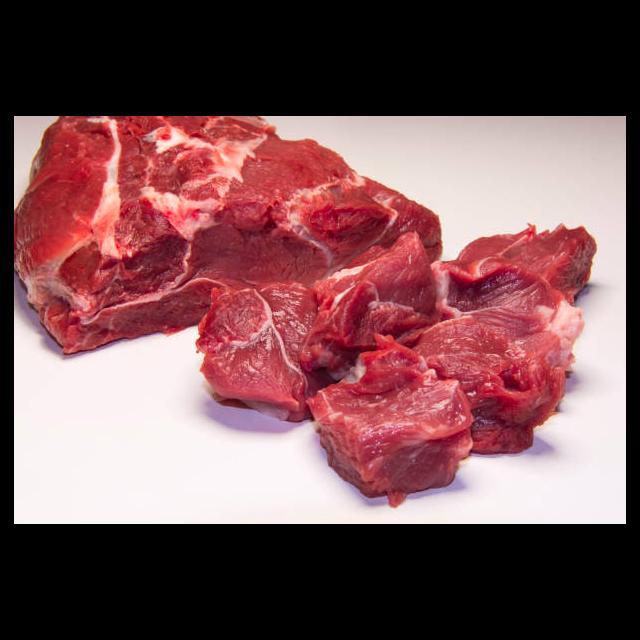beef: (15, 117, 598, 515)
